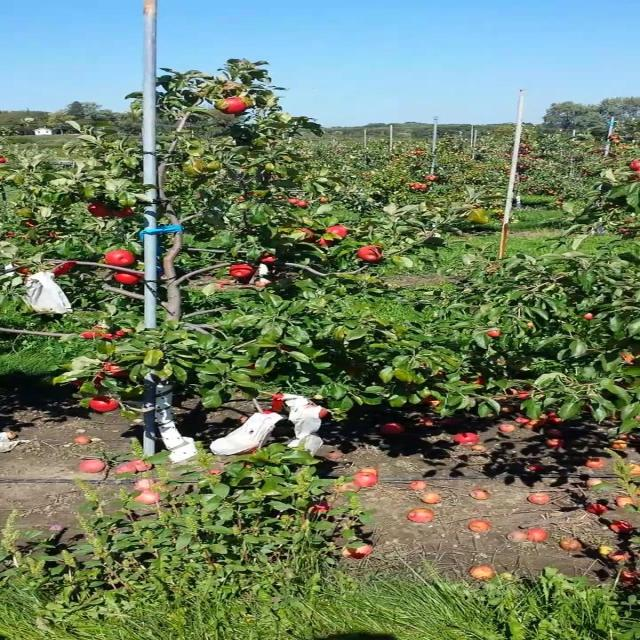apple: (216, 96, 249, 114), (104, 249, 136, 266), (89, 396, 120, 412), (356, 245, 382, 262), (102, 362, 129, 378), (98, 328, 132, 340), (87, 201, 111, 218), (113, 271, 142, 285), (229, 264, 256, 279), (51, 262, 73, 276), (79, 326, 103, 338), (327, 225, 349, 238), (230, 445, 258, 455), (421, 394, 442, 406), (110, 206, 132, 217), (295, 228, 315, 240), (513, 386, 531, 398), (257, 252, 276, 263), (618, 351, 634, 363), (316, 236, 334, 246), (93, 372, 104, 388), (462, 376, 484, 384), (15, 265, 31, 275), (345, 366, 358, 376), (317, 407, 329, 417), (486, 329, 500, 337), (294, 199, 308, 207), (581, 312, 594, 320), (73, 379, 84, 388), (628, 172, 638, 180)
